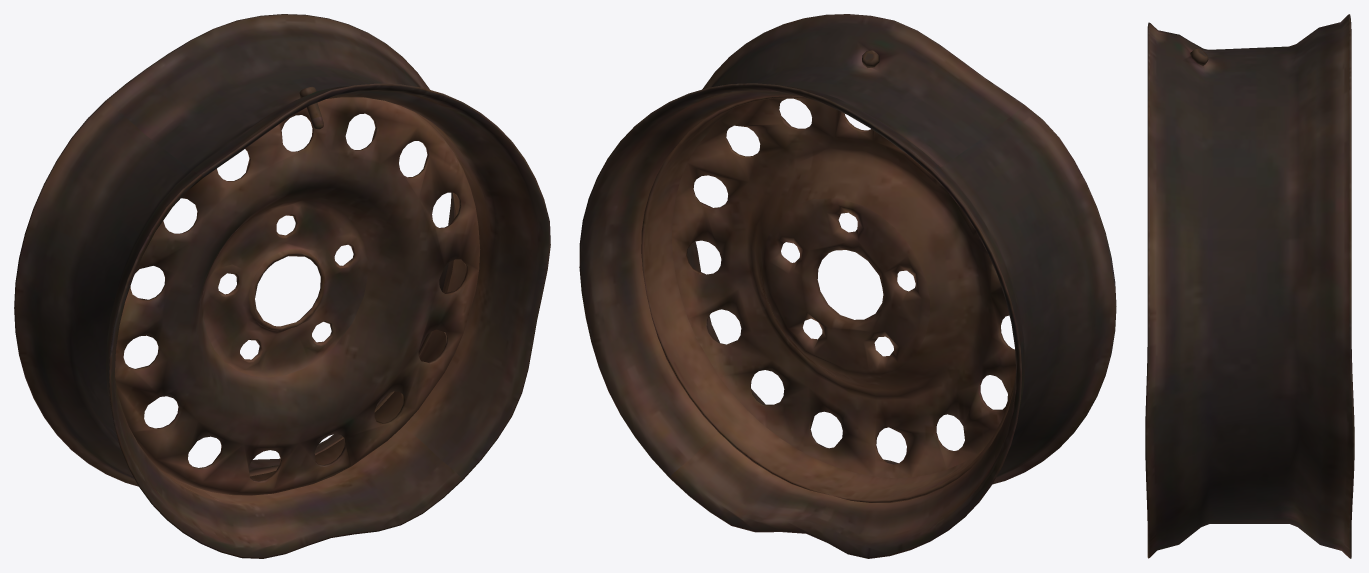
File: wheel_rim_rusted.glb
The picture shows the model from 3 angles, left to right: view 1: azimuth 30°, elevation 25°; view 2: azimuth 150°, elevation 25°; view 3: azimuth 270°, elevation 25°; orthographic projection. The views are drawn at different scales.
Parts seen in each view (by area): view 1: rusted_wheel_rim_01; view 2: rusted_wheel_rim_01; view 3: rusted_wheel_rim_01.
Part boxes in pixels (left/top/right/bottom): rusted_wheel_rim_01: left=14, top=14, right=550, bottom=558; rusted_wheel_rim_01: left=579, top=14, right=1116, bottom=558; rusted_wheel_rim_01: left=1145, top=14, right=1354, bottom=558.
Bounding box in the file's own units: 0.4029 × 0.3955 × 0.1541.
1 material, 1 textured.
